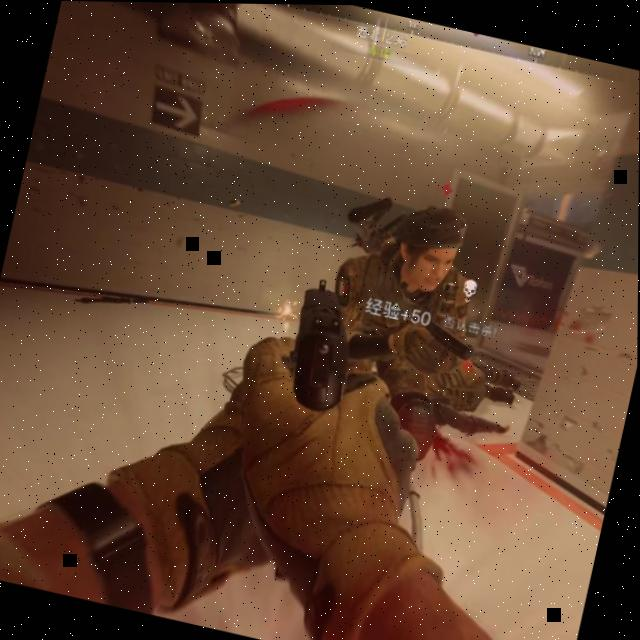MW2_body: (313, 159, 493, 418)
